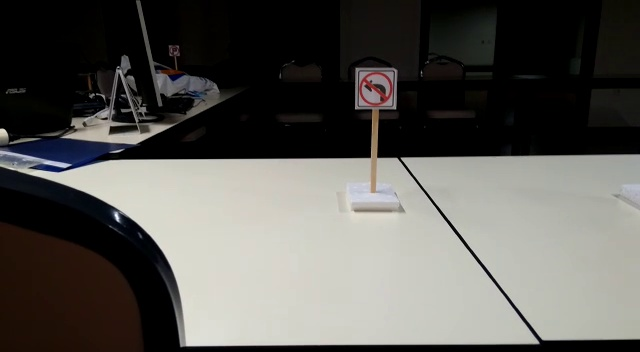sola_donulmez: (355, 60, 401, 111)
